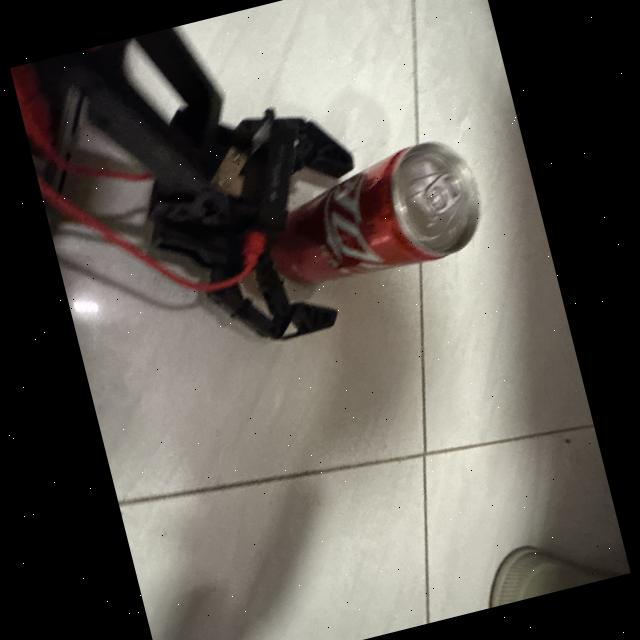Cola: (257, 124, 503, 310)
